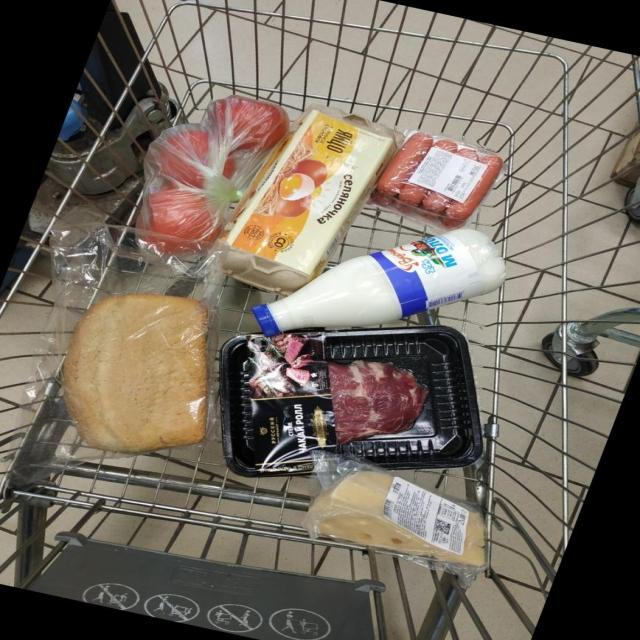cheese: (193, 233, 526, 640)
egg: (159, 44, 450, 176)
milk: (256, 132, 640, 366)
tomato: (69, 127, 269, 379), (113, 95, 348, 260), (72, 82, 249, 264), (101, 59, 321, 181)
